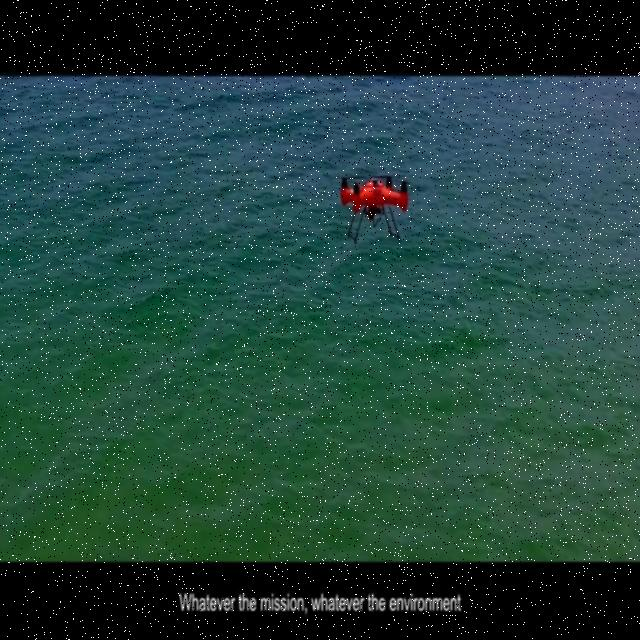UAV: (340, 176, 411, 244)
